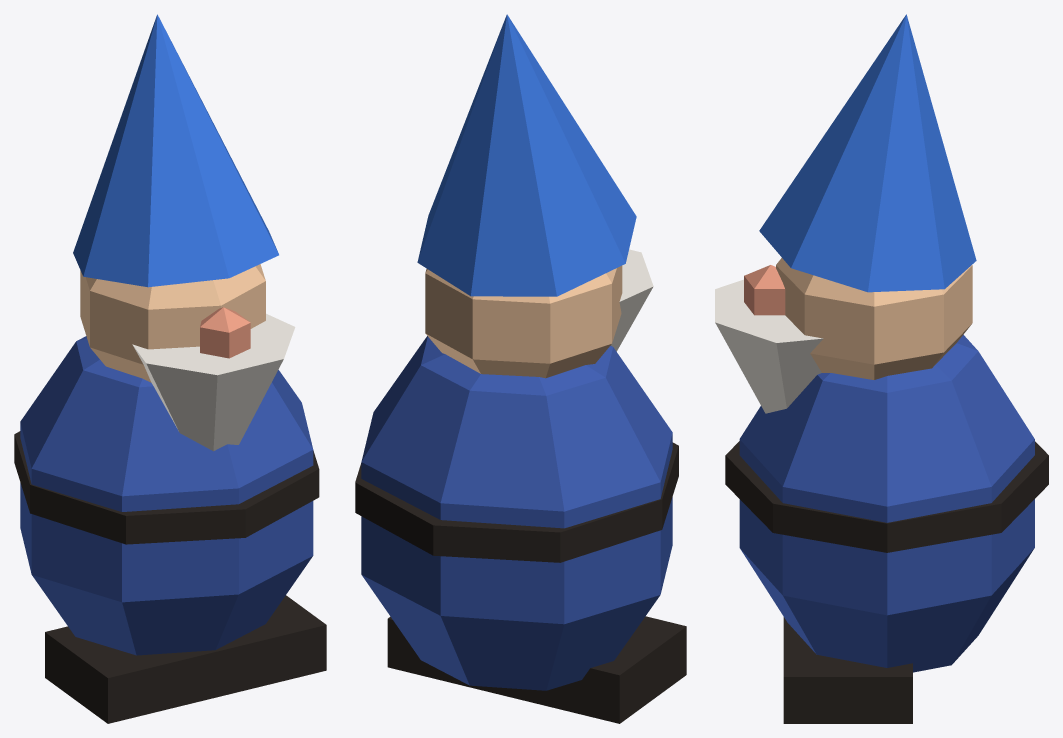
The model's file is garden_gnome_1.glb.
3 views of the same model, side by side, from view 1: azimuth 30°, elevation 25°; view 2: azimuth 150°, elevation 25°; view 3: azimuth 270°, elevation 25° (orthographic). The views are drawn at different scales.
Parts seen in each view (by area): view 1: body_gnome_coat, hat, boots_gnome_boots, head_gnome_skin, beard_gnome_beard, belt_gnome_belt, nose_gnome_nose; view 2: body_gnome_coat, hat, head_gnome_skin, belt_gnome_belt, boots_gnome_boots, beard_gnome_beard; view 3: body_gnome_coat, hat, head_gnome_skin, belt_gnome_belt, boots_gnome_boots, beard_gnome_beard, nose_gnome_nose.
Boxes of the visible parts, left/top/right/bottom form: body_gnome_coat: left=20, top=336, right=313, bottom=655; hat: left=73, top=14, right=278, bottom=287; boots_gnome_boots: left=45, top=595, right=326, bottom=723; head_gnome_skin: left=80, top=264, right=265, bottom=382; beard_gnome_beard: left=132, top=313, right=295, bottom=451; belt_gnome_belt: left=14, top=431, right=319, bottom=544; nose_gnome_nose: left=200, top=307, right=250, bottom=358; body_gnome_coat: left=361, top=336, right=672, bottom=690; hat: left=417, top=14, right=636, bottom=296; head_gnome_skin: left=425, top=265, right=622, bottom=378; belt_gnome_belt: left=355, top=442, right=678, bottom=562; boots_gnome_boots: left=387, top=616, right=686, bottom=723; beard_gnome_beard: left=611, top=249, right=653, bottom=351; body_gnome_coat: left=739, top=335, right=1034, bottom=672; hat: left=759, top=14, right=976, bottom=292; head_gnome_skin: left=776, top=258, right=972, bottom=379; belt_gnome_belt: left=725, top=441, right=1048, bottom=552; boots_gnome_boots: left=783, top=617, right=912, bottom=723; beard_gnome_beard: left=715, top=279, right=823, bottom=413; nose_gnome_nose: left=744, top=265, right=785, bottom=315.
Bounding box in the file's own units: 0.25 × 0.5589 × 0.2581.
